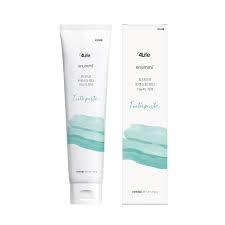toothpaste: (56, 19, 113, 214)
